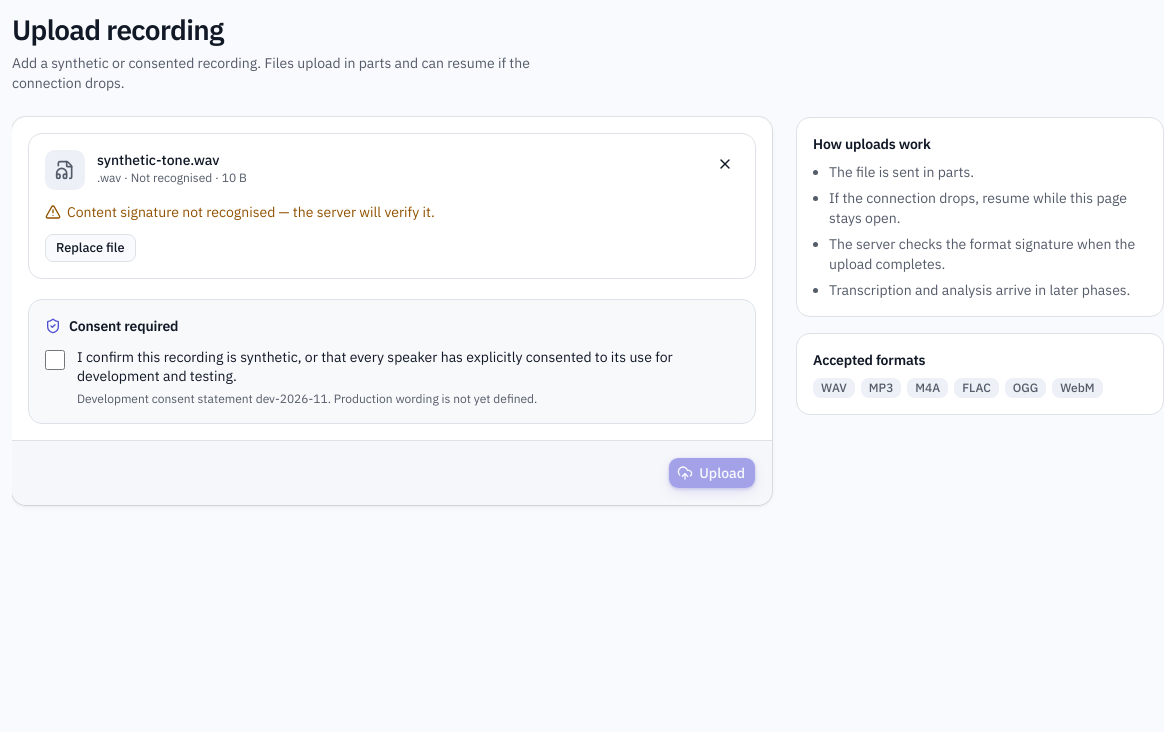
Test: UploadPage › requires a file and the consent attestation before uploading
Earlier steps of the test are not shown.
Check: the button "Upload" is disabled, box [668, 456, 756, 488]
Click the checkbox. click: click(55, 360)
box: [45, 350, 65, 370]
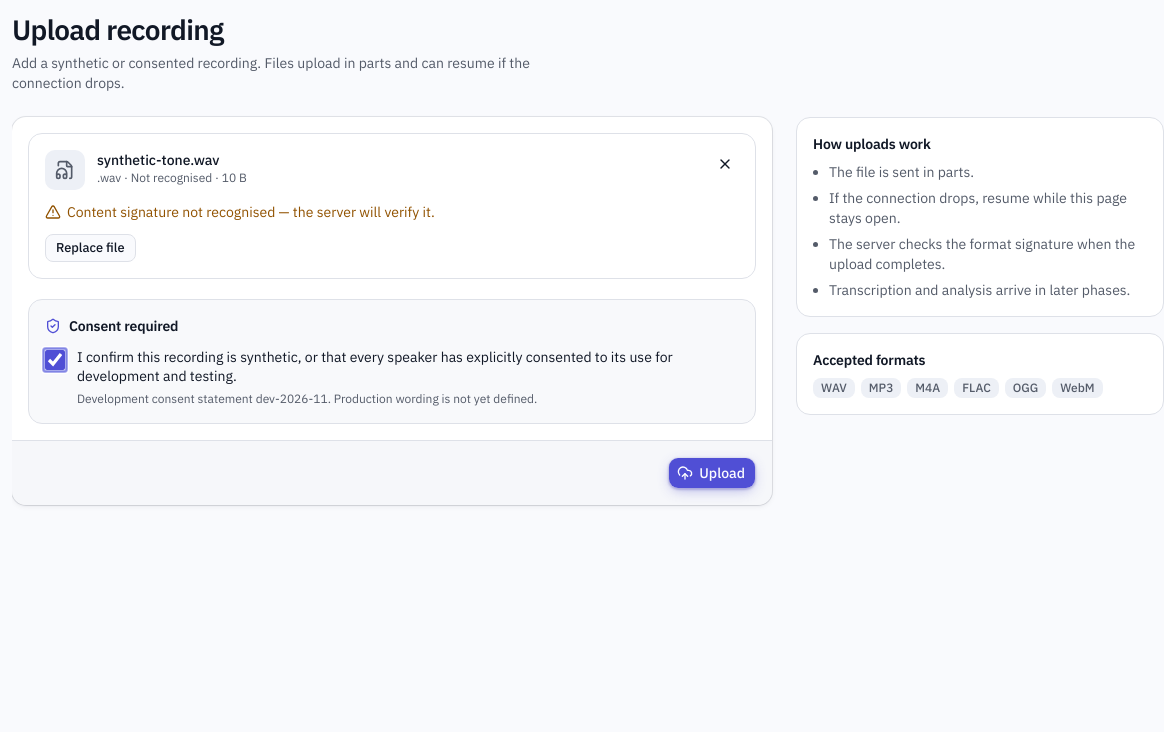
Check: the button "Upload" is enabled, box [668, 456, 756, 488]
